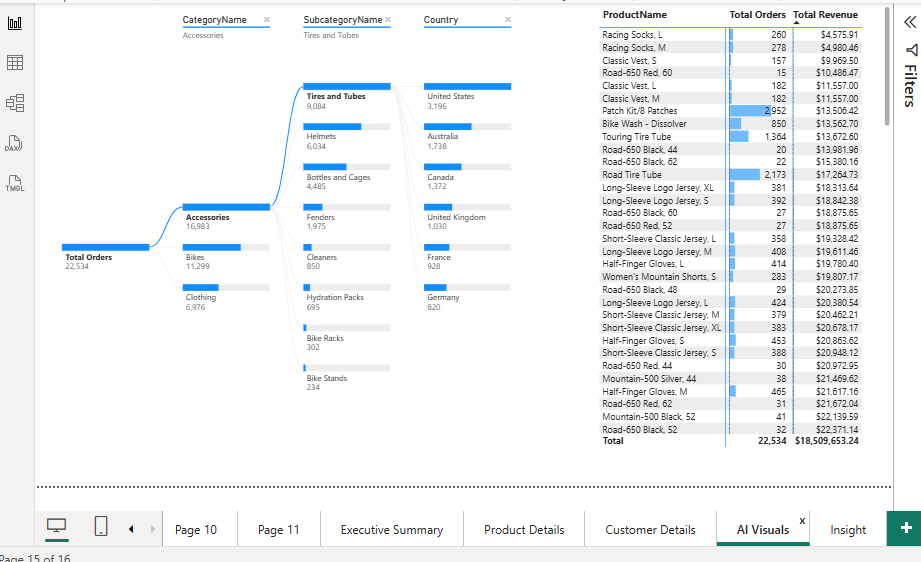

The dashboard page shown, as its layout file describes it:
{"tool":"powerbi","page":{"name":"AI Visuals","canvas":[1280,720],"ordinal":13},"visuals":[{"type":"decompositionTreeVisual","fields":{"Analyze":["Sales Data.Total Orders"],"ExplainBy":["Product_Categories_lookup.CategoryName","Product_Subcategories_lookup.SubcategoryName","Territories_lookup.Country"]},"box":[10.1,0,718.6,707],"z":0},{"type":"pivotTable","fields":{"Rows":["Products_lookup.ProductName"],"Values":["Sales Data.Total Orders","Sales Data.Total Revenue"]},"box":[836.6,0,443.5,666.7],"z":1000}]}

Visuals, with their boxes on the page's 1280x720 design canvas (x1, y1, x2, y2). These are canvas units, not pixel positions in the 921x562 screenshot, which may show the page scaled, cropped or inside an application window:
decompositionTreeVisual - Sales Data.Total Orders x Product_Categories_lookup.CategoryName: <box>10,0,729,707</box>
pivotTable - Products_lookup.ProductName x Sales Data.Total Orders: <box>837,0,1280,667</box>
